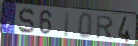0: (76, 12, 94, 40)
4: (117, 15, 131, 44)
6: (39, 10, 53, 36)
I: (62, 10, 71, 38)
R: (94, 15, 115, 41)
S: (18, 7, 36, 35)
